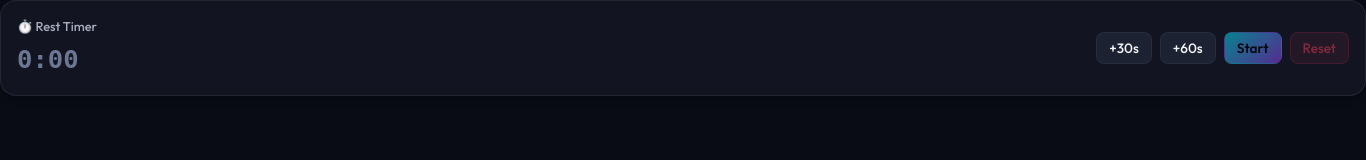
Test: RestTimer Component › should add 60 seconds when clicking +60s
The image size is (1366, 160).
What coordinates should you click on to do the following:
click the button "+60s"
I would click on:
 (1188, 48)
Its box is [1160,32,1216,64].
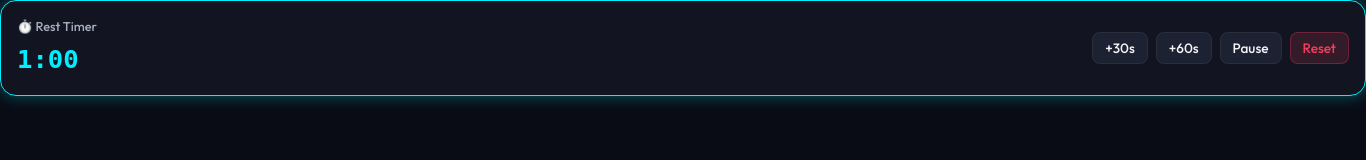
Expected: the text "1:00" is shown, [17,44,79,74]
